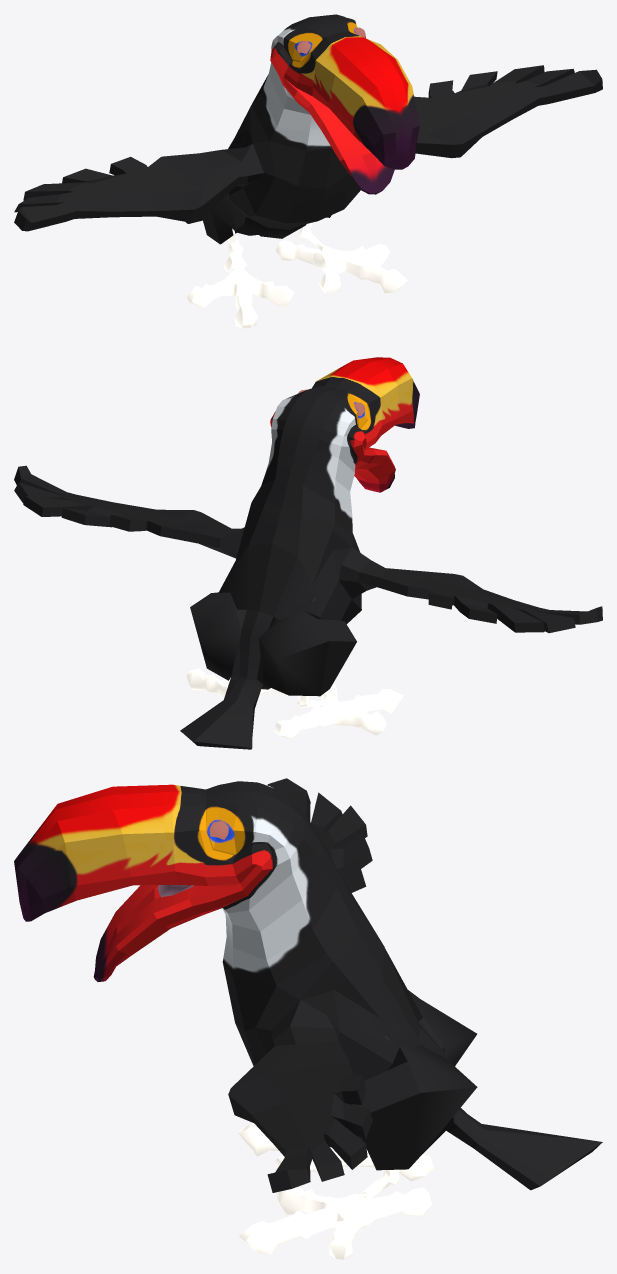
Rendered from Tucan_FBX.fbx.
3 views of the same model, one above another, from view 1: azimuth 30°, elevation 25°; view 2: azimuth 150°, elevation 25°; view 3: azimuth 270°, elevation 25° (orthographic). The views are drawn at different scales.
Visible parts, largest first — view 1: Body, Legs; view 2: Body, Legs; view 3: Body, Legs.
Part boxes in pixels (bbox=[...]): Body: bbox=[14, 14, 602, 244]; Legs: bbox=[187, 222, 407, 328]; Body: bbox=[14, 357, 602, 749]; Legs: bbox=[186, 668, 403, 739]; Body: bbox=[14, 778, 602, 1192]; Legs: bbox=[238, 1123, 434, 1259].
Bounding box in the file's own units: 11.57 × 5.56 × 7.29.
Materials: 4 (1 with a texture image).
